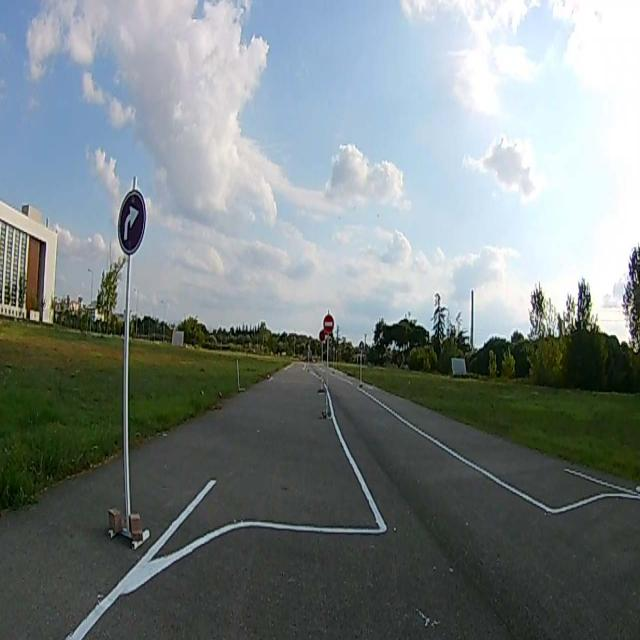girisyok: (322, 315, 334, 334)
sag: (117, 190, 145, 254)
